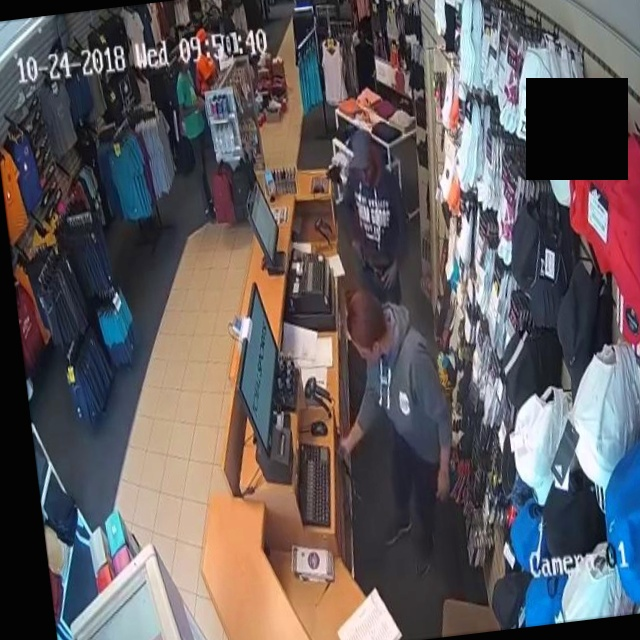gun: (351, 242, 400, 292)
